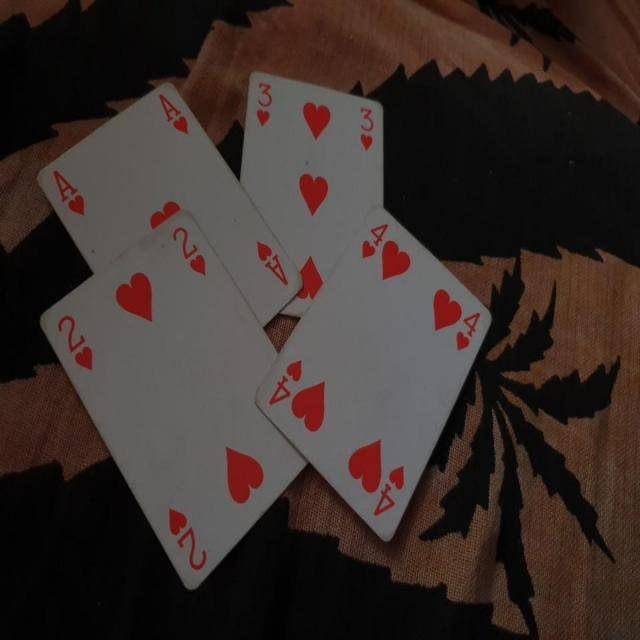2 Hearts: (30, 207, 322, 596)
3 Hearts: (224, 66, 403, 332)
4 Hearts: (253, 202, 502, 554)
A Hearts: (48, 70, 310, 329)
